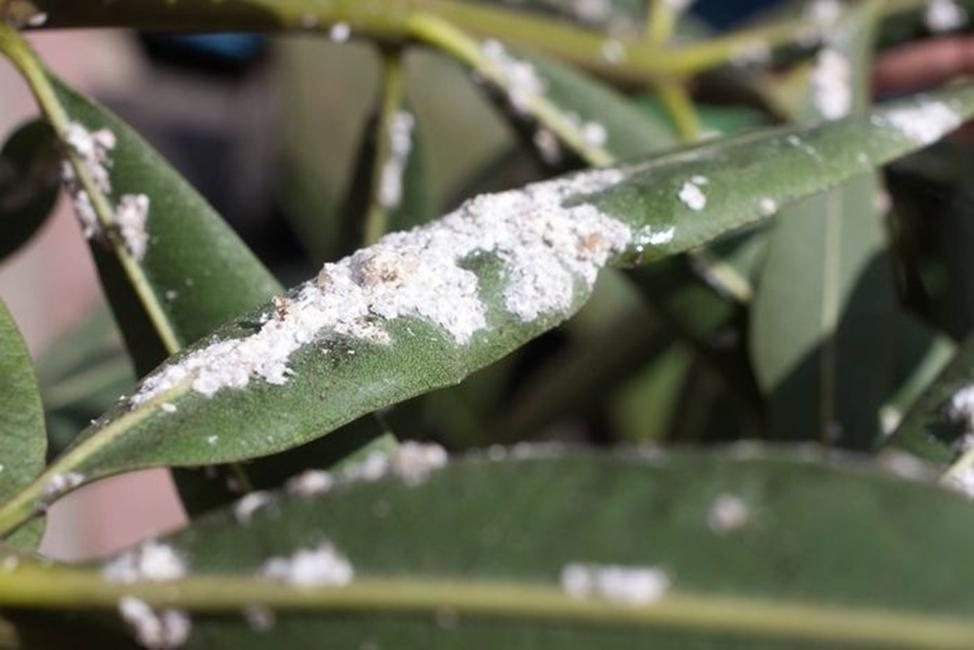pseudococcidae: (118, 153, 716, 456)
